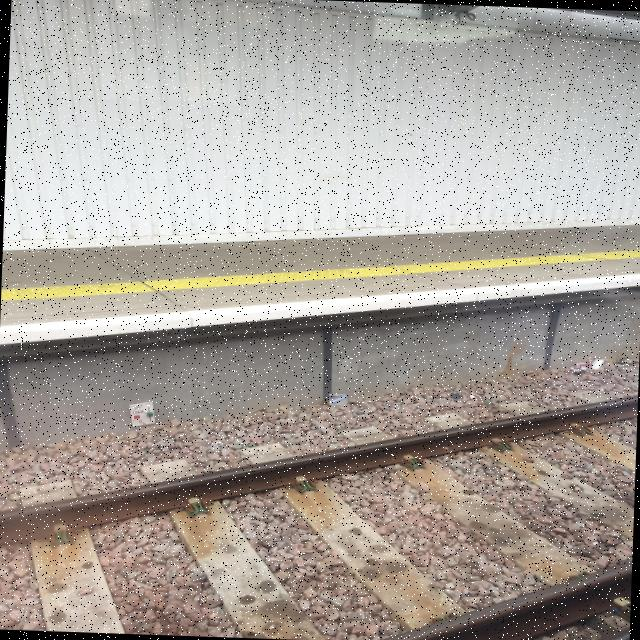Disposable plastic cup: (330, 394, 348, 404)
Drink can: (571, 367, 584, 374)
Paper cup: (589, 357, 604, 369)
Plastic lid: (450, 393, 460, 400)
Plastic straw: (600, 359, 608, 360)
Unlabeled litter: (575, 363, 592, 368)
